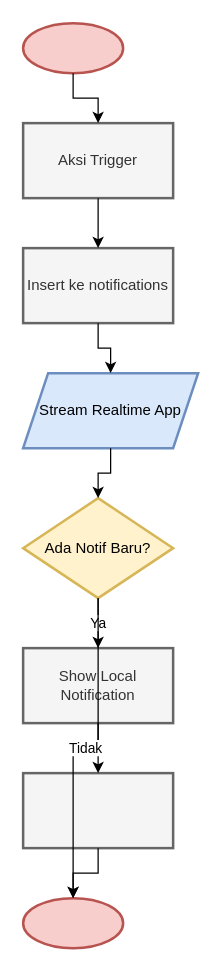
Image size: 220x970. Some labels were removed from this diagram. The shapes that lost their labels are listed below. From the top down, each one's centre as x and y in pixels, then its label:
(x=72, y=47): Mulai
(x=97, y=810): Update Badge Count
(x=72, y=922): Selesai
